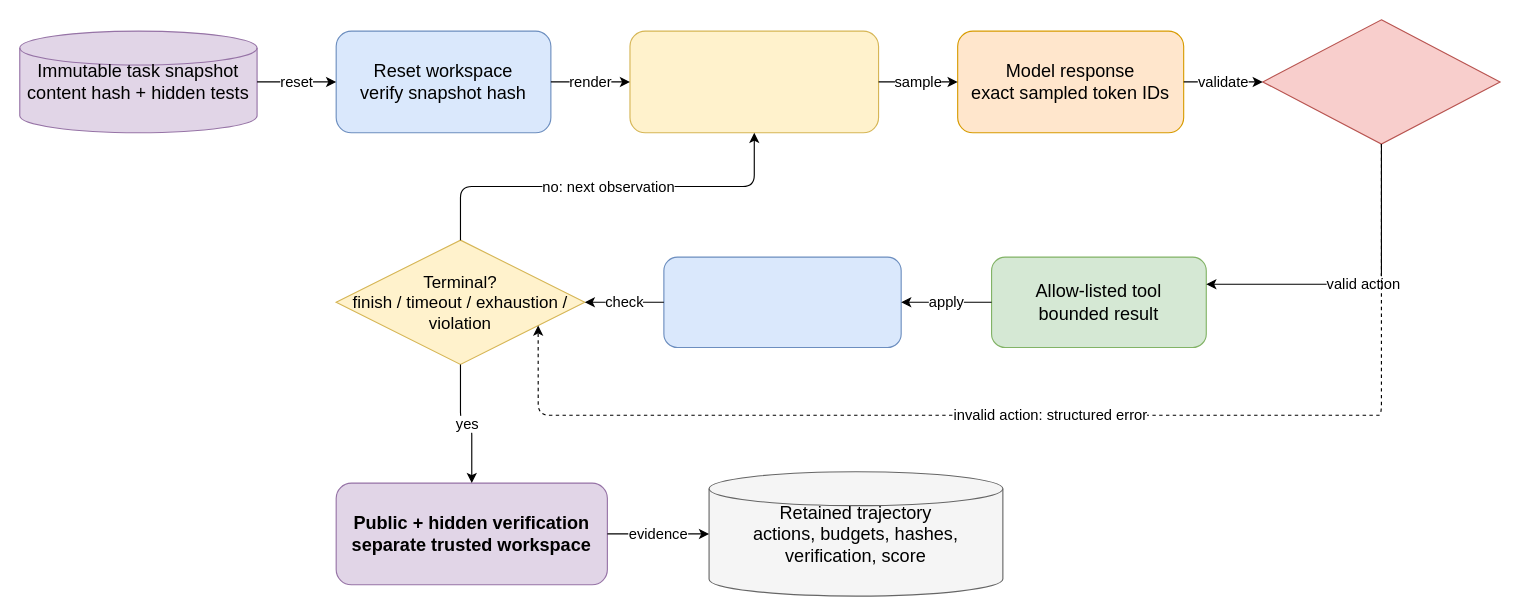
This 1520x616 diagram has some shape labels left out. Here are the shapes that lost their labels. From the top down, the centre of each, then its label:
At point 754,81: "Observation issue + tools + budgets + transcript".
At point 1381,81: "Charge budget, then parse one strict JSON action".
At point 782,301: "Workspace transition new hash + result record".
